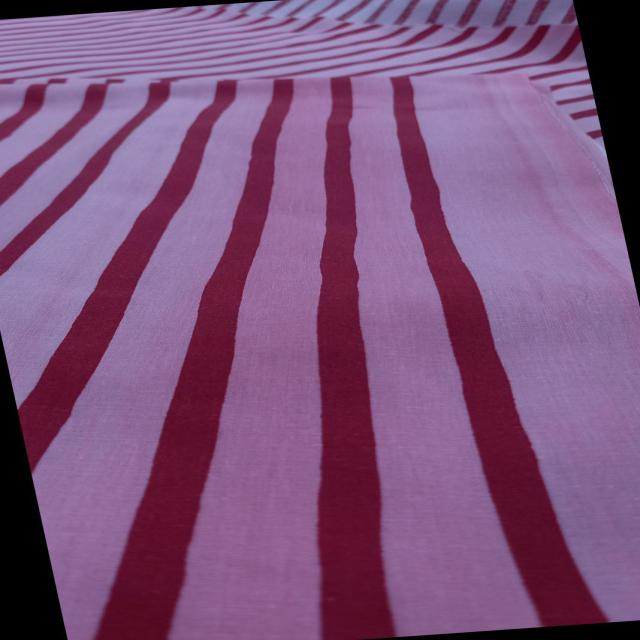color issues: (99, 78, 465, 640)
